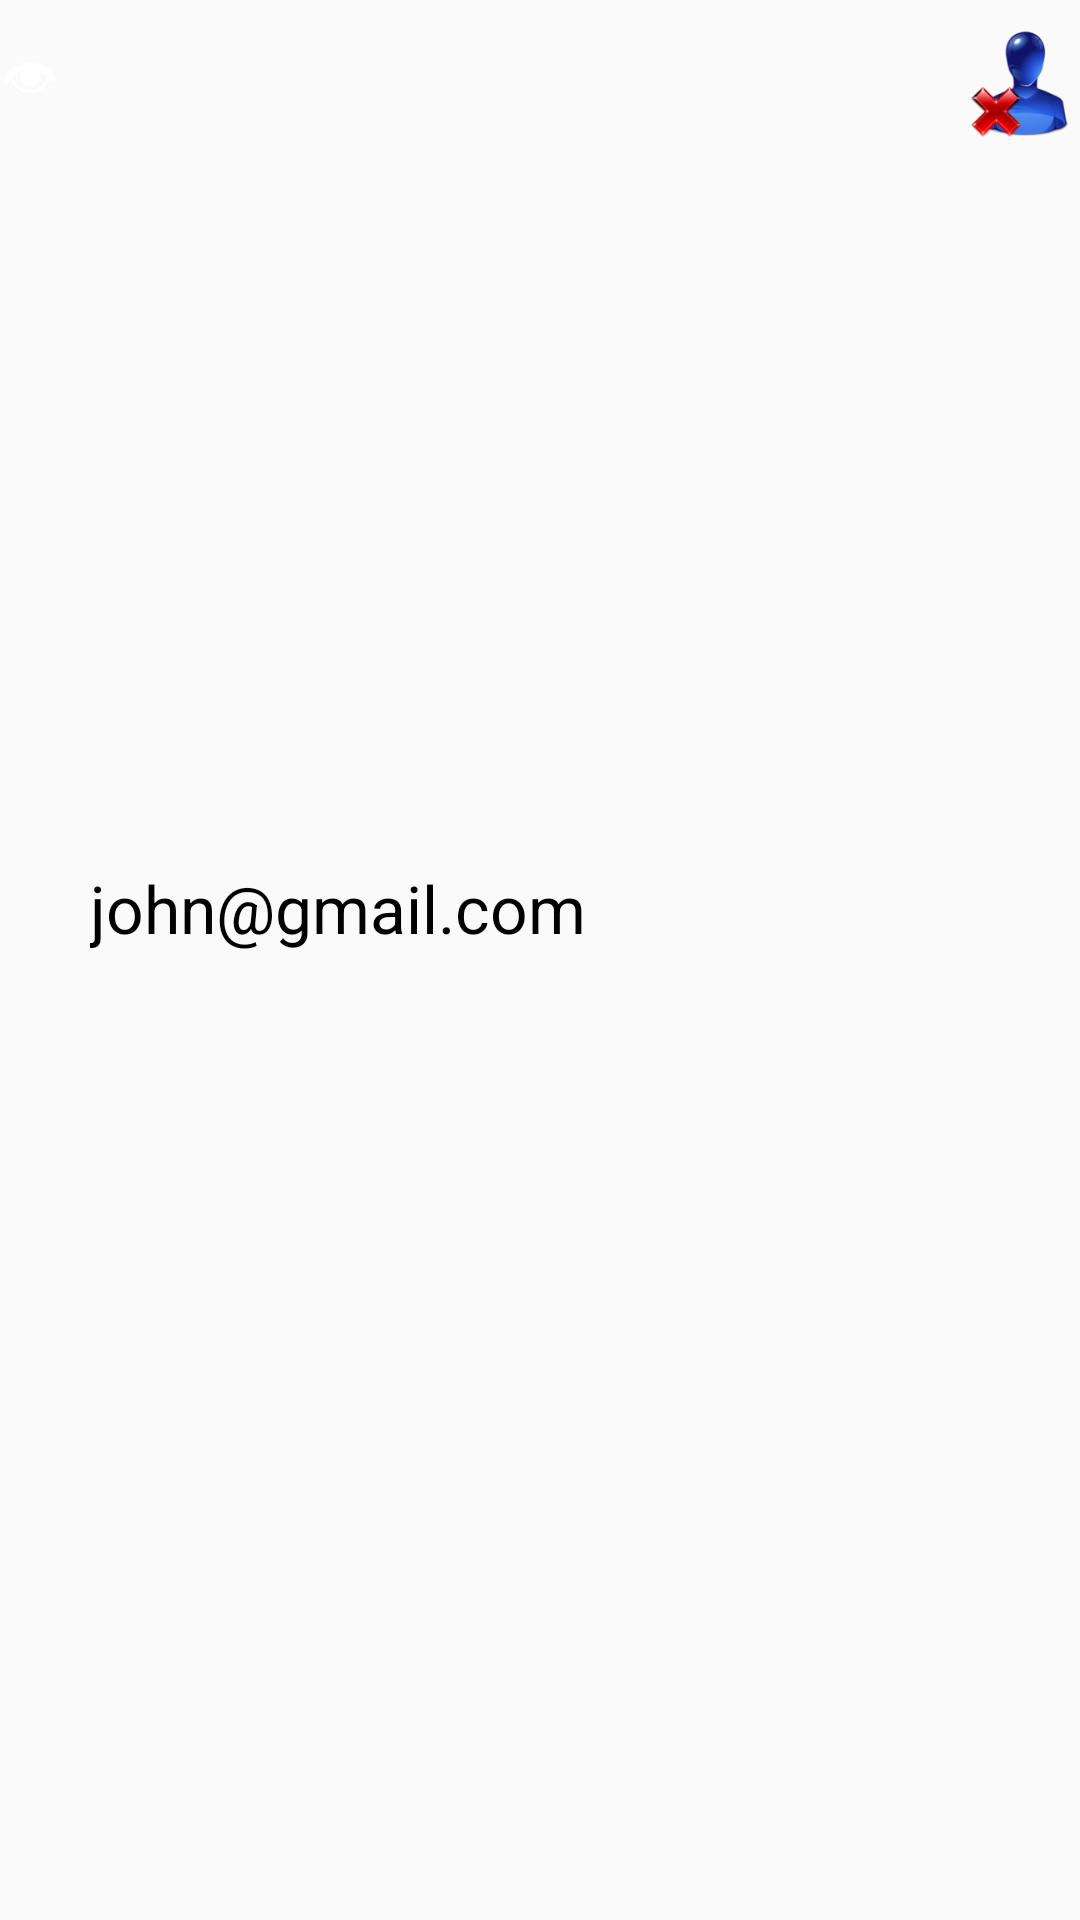

Icons on this 1080px x 1920px Android screen, each with its box as [left=x1, top=y1, right=x2, bottom=y2]:
delete user: [left=971, top=31, right=1068, bottom=137]
